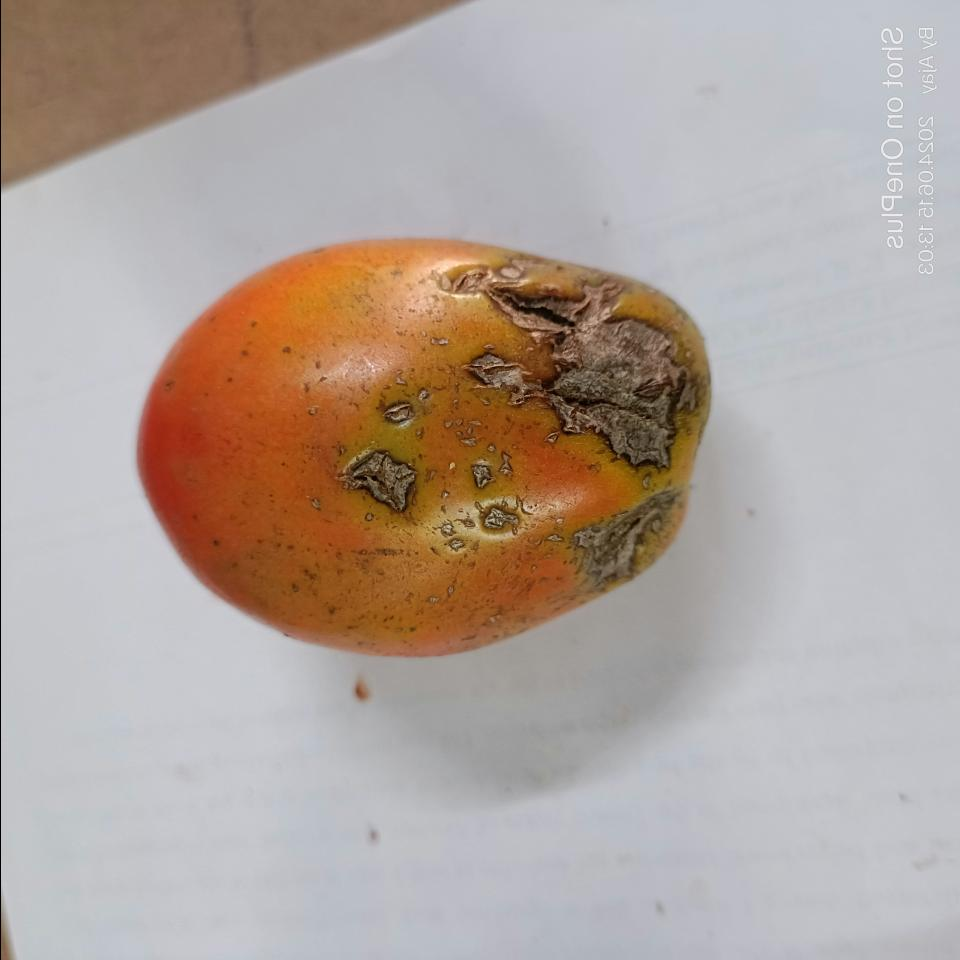Bacterial_Spot: (480, 282, 696, 482), (562, 499, 660, 574), (336, 444, 416, 528), (481, 502, 525, 536), (441, 515, 475, 557), (380, 396, 418, 430), (440, 415, 471, 445), (431, 333, 450, 353)
